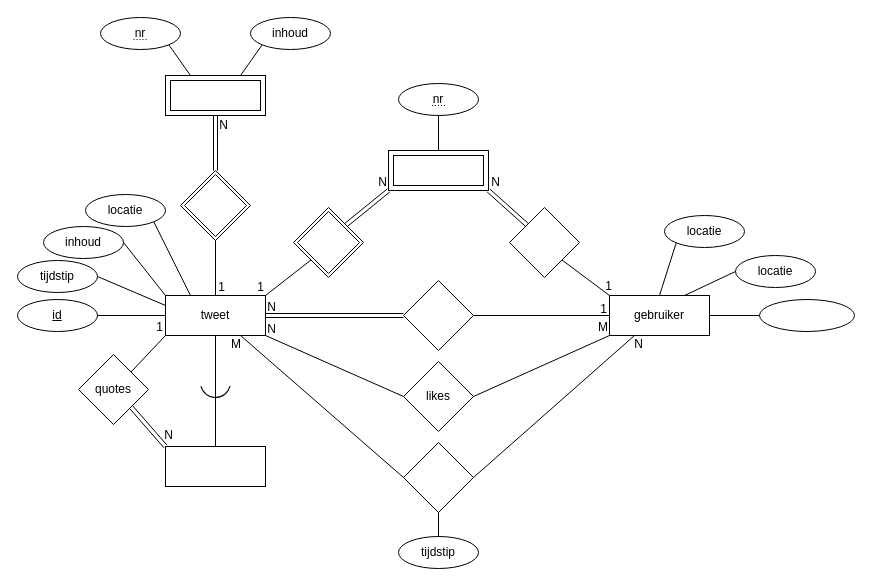
Some shapes in this 872 by 586 pixel diagram are drawn without their labels. Each missing label, with the centre of its shape:
"gebruikersnaam" goes at (x=806, y=315).
"mention" goes at (x=438, y=170).
"mentions" goes at (x=544, y=242).
"quote" goes at (x=215, y=466).
"retweets" goes at (x=438, y=477).
"tag" goes at (x=215, y=95).
"tweets" goes at (x=438, y=315).
